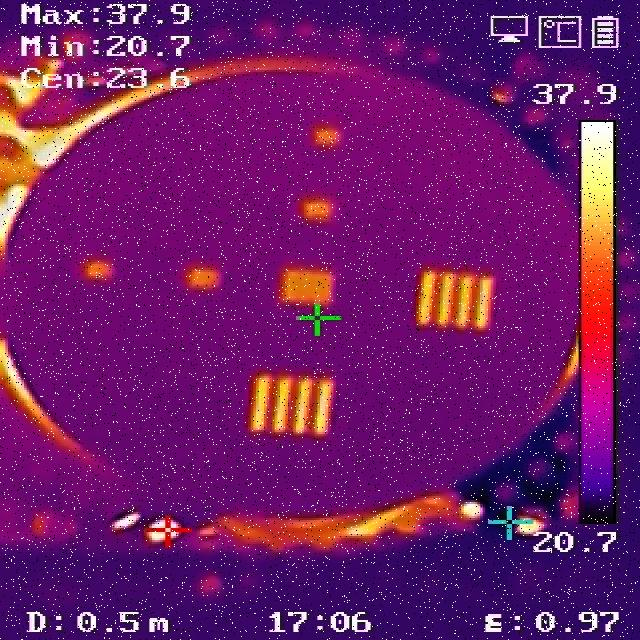Distinguishable 4-bar target: (255, 378, 342, 435), (418, 272, 491, 333)
Indistinguishable 4-bar target: (292, 270, 333, 304), (187, 265, 216, 289), (81, 261, 108, 280), (307, 203, 329, 219), (316, 130, 335, 145)
